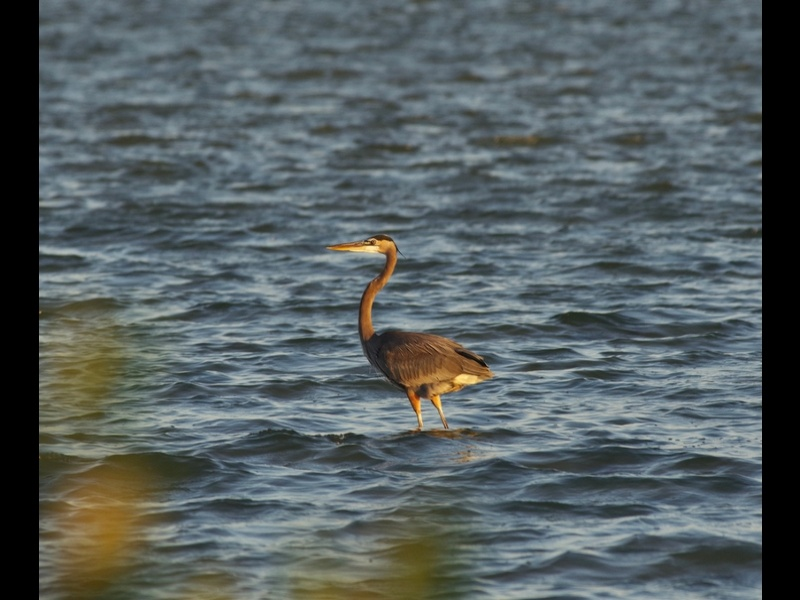heron: (327, 236, 499, 444)
